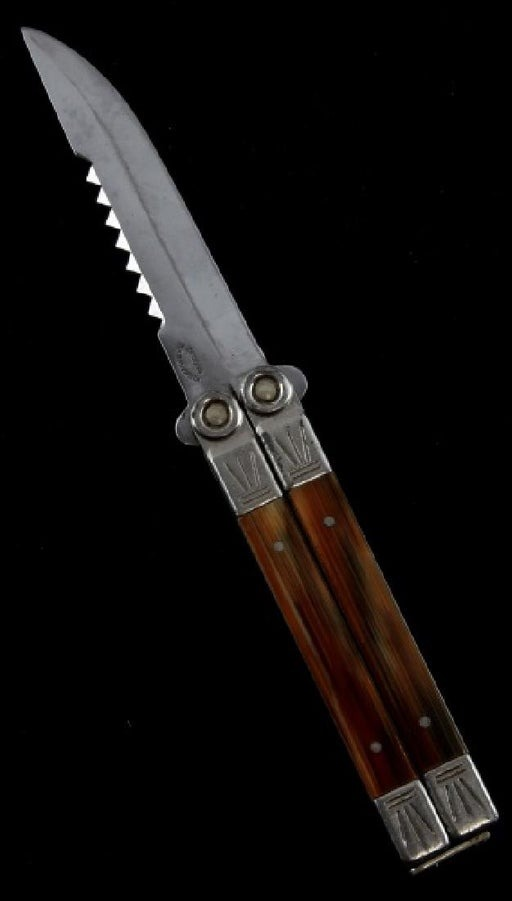knife: (8, 16, 503, 876)
